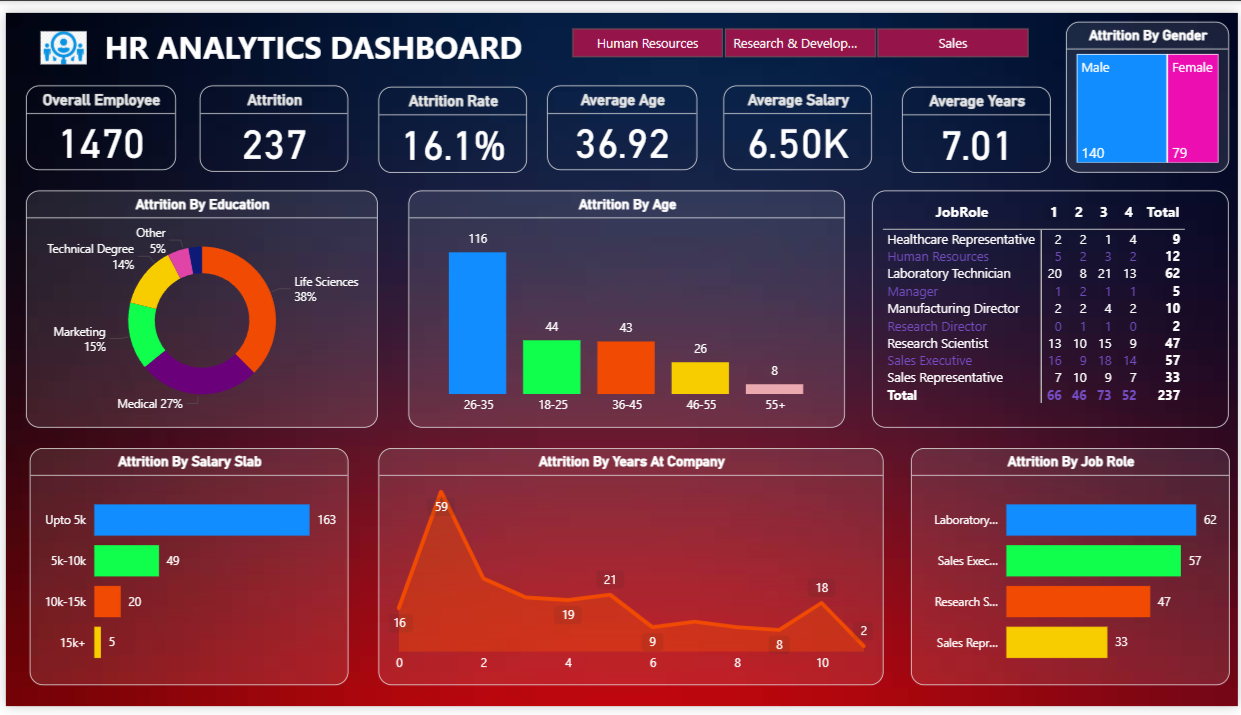

What the dashboard file says about the page in this screenshot:
{"tool":"powerbi","page":{"name":"HR Report","canvas":[1280,720],"ordinal":0},"visuals":[{"type":"card","title":"Overall Employee","fields":{"Values":["CountNonNull(HR_Analytics Project.EmpID)"]},"box":[20.9,74.8,155.8,88.3],"z":0},{"type":"card","title":"Attrition","fields":{"Values":["Sum(HR_Analytics Project.AttritionCount)"]},"box":[201.2,74.8,154.6,89.6],"z":1000},{"type":"card","title":"Attrition Rate","fields":{"Values":["HR_Analytics Project.AttritionRate"]},"box":[386.5,76.1,154.6,89.6],"z":2000},{"type":"card","title":"Average Age","fields":{"Values":["Avg(HR_Analytics Project.Age)"]},"box":[562,74.8,155.8,88.3],"z":3000},{"type":"card","title":"Average Salary","fields":{"Values":["Avg(HR_Analytics Project.MonthlyIncome)"]},"box":[746,74.8,154.6,88.3],"z":4000},{"type":"card","title":"Average Years","fields":{"Values":["Avg(HR_Analytics Project.YearsAtCompany)"]},"box":[931.3,76.1,154.6,89.6],"z":5000},{"type":"donutChart","title":" Attrition By Education","fields":{"Category":["HR_Analytics Project.EducationField"],"Y":["Sum(HR_Analytics Project.AttritionCount)"]},"box":[20.9,184.1,365.6,246.6],"z":6000},{"type":"columnChart","title":" Attrition By Age","fields":{"Category":["HR_Analytics Project.AgeGroup"],"Y":["Sum(HR_Analytics Project.AttritionCount)"]},"box":[418.4,184.1,454,246.6],"z":7000},{"type":"pivotTable","fields":{"Rows":["HR_Analytics Project.JobRole"],"Values":["Sum(HR_Analytics Project.AttritionCount)"],"Columns":["HR_Analytics Project.JobSatisfaction"]},"box":[900.6,184.1,370.6,246.6],"z":8000},{"type":"barChart","title":" Attrition By Salary Slab","fields":{"Category":["HR_Analytics Project.SalarySlab"],"Y":["Sum(HR_Analytics Project.AttritionCount)"]},"box":[24.5,451.5,331.3,246.6],"z":9000},{"type":"barChart","title":" Attrition By Job Role","fields":{"Category":["HR_Analytics Project.JobRole"],"Y":["Sum(HR_Analytics Project.AttritionCount)"]},"box":[939.9,451.5,331.3,246.6],"z":10000},{"type":"areaChart","title":"Attrition By Years At Company","fields":{"Category":["HR_Analytics Project.YearsAtCompany"],"Y":["Sum(HR_Analytics Project.AttritionCount)"]},"box":[386.5,451.5,525.2,246.6],"z":11000},{"type":"treemap","title":" Attrition By Gender","fields":{"Group":["HR_Analytics Project.Gender"],"Values":["Sum(HR_Analytics Project.AttritionCount)"]},"box":[1101.8,8.6,169.3,157.1],"z":12000},{"type":"slicer","fields":{"Values":["HR_Analytics Project.Department"]},"box":[562,8.6,523.9,44.2],"z":13000},{"type":"textbox","box":[24.5,8.6,516.6,55.2],"z":14000},{"type":"image","box":[20.9,14.7,78.5,44.2],"z":14001}]}

Visuals, with their boxes in screenshot pixels (x1, y1, x2, y2), scaled from the page's 1280x720 canvas onto the 1241x715 screenshot:
"Overall Employee" card: 20, 74, 171, 162
"Attrition" card: 195, 74, 345, 163
"Attrition Rate" card: 375, 76, 525, 165
"Average Age" card: 545, 74, 696, 162
"Average Salary" card: 723, 74, 873, 162
"Average Years" card: 903, 76, 1053, 165
" Attrition By Education" donutChart: 20, 183, 375, 428
" Attrition By Age" columnChart: 406, 183, 846, 428
pivotTable - HR_Analytics Project.JobRole x Sum(HR_Analytics Project.AttritionCount): 873, 183, 1232, 428
" Attrition By Salary Slab" barChart: 24, 448, 345, 693
" Attrition By Job Role" barChart: 911, 448, 1232, 693
"Attrition By Years At Company" areaChart: 375, 448, 884, 693
" Attrition By Gender" treemap: 1068, 9, 1232, 165
slicer - HR_Analytics Project.Department: 545, 9, 1053, 52
textbox: 24, 9, 525, 63
image: 20, 15, 96, 58
